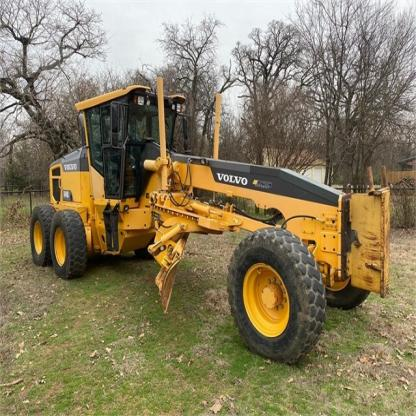bull_dozer/loader/grader: (28, 81, 387, 363)
